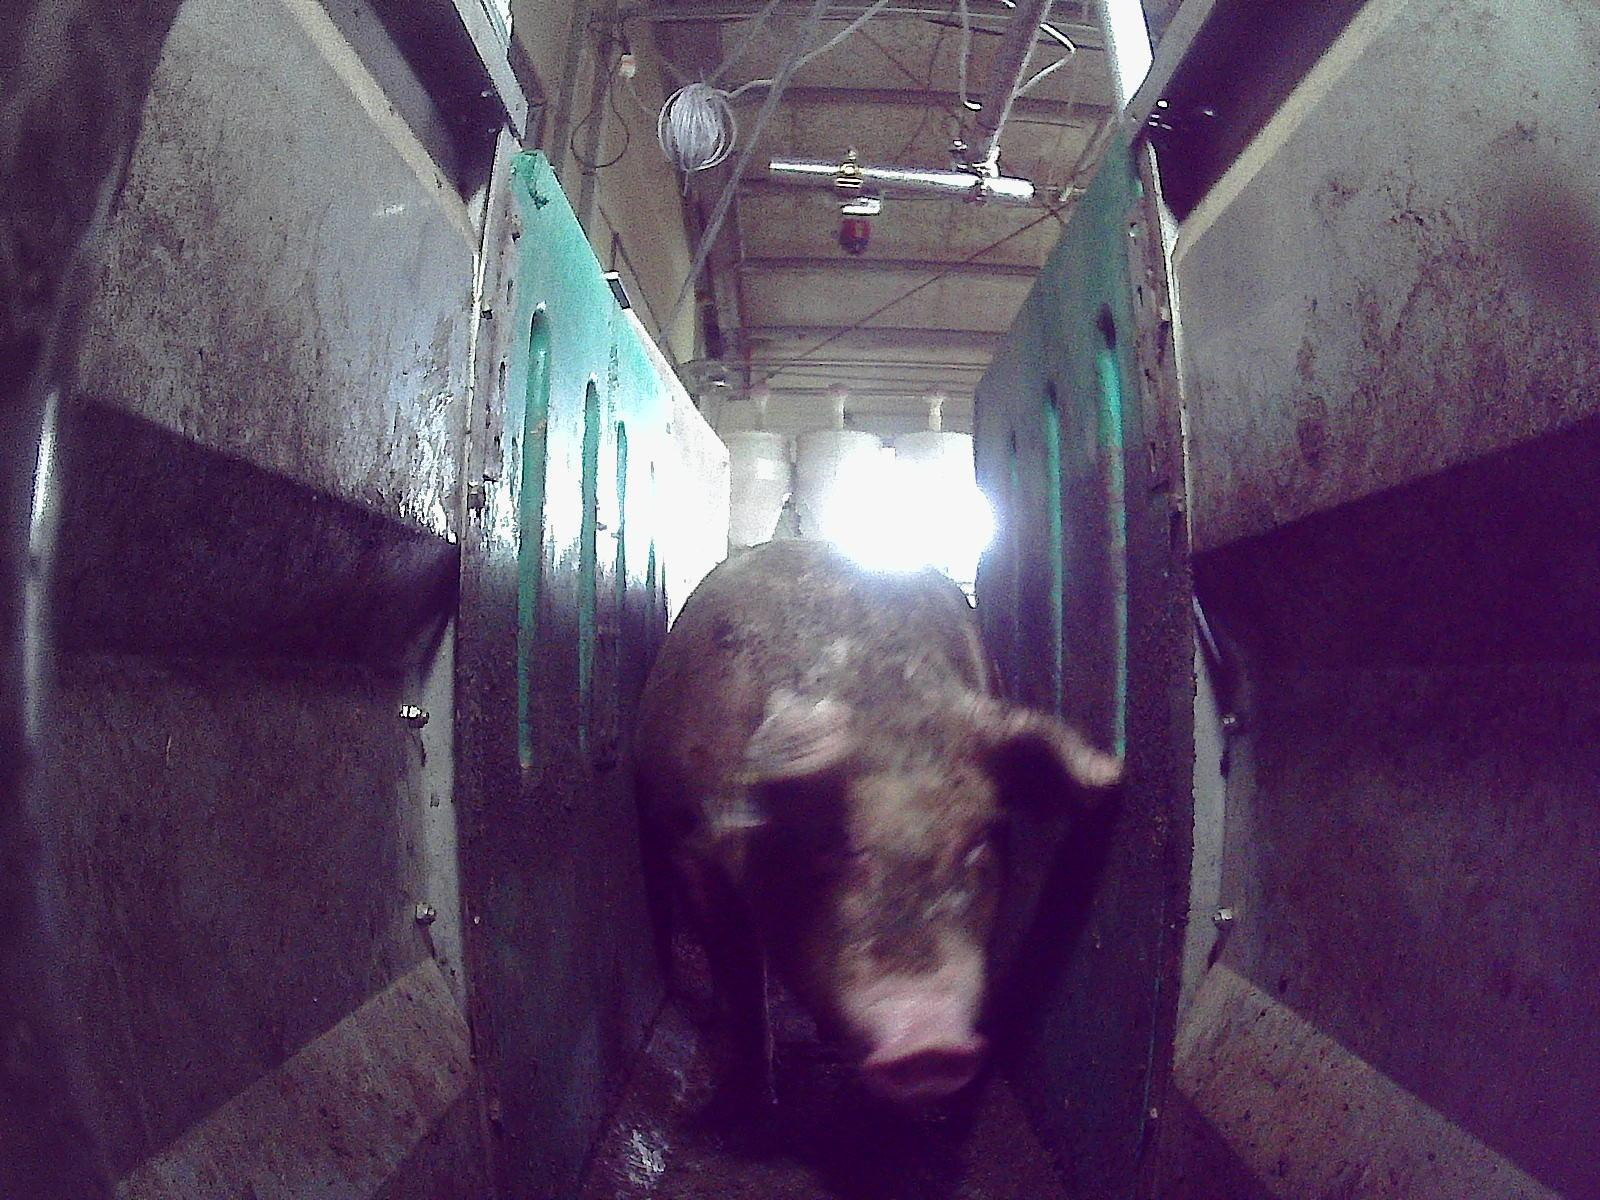Face: (738, 707, 1007, 1098)
